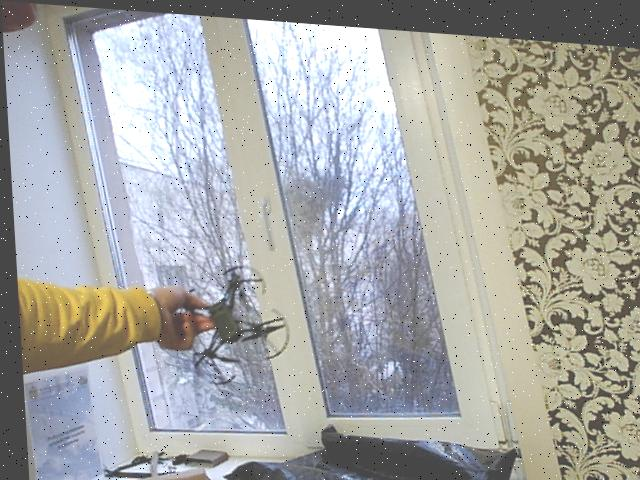drone: (162, 243, 292, 389)
